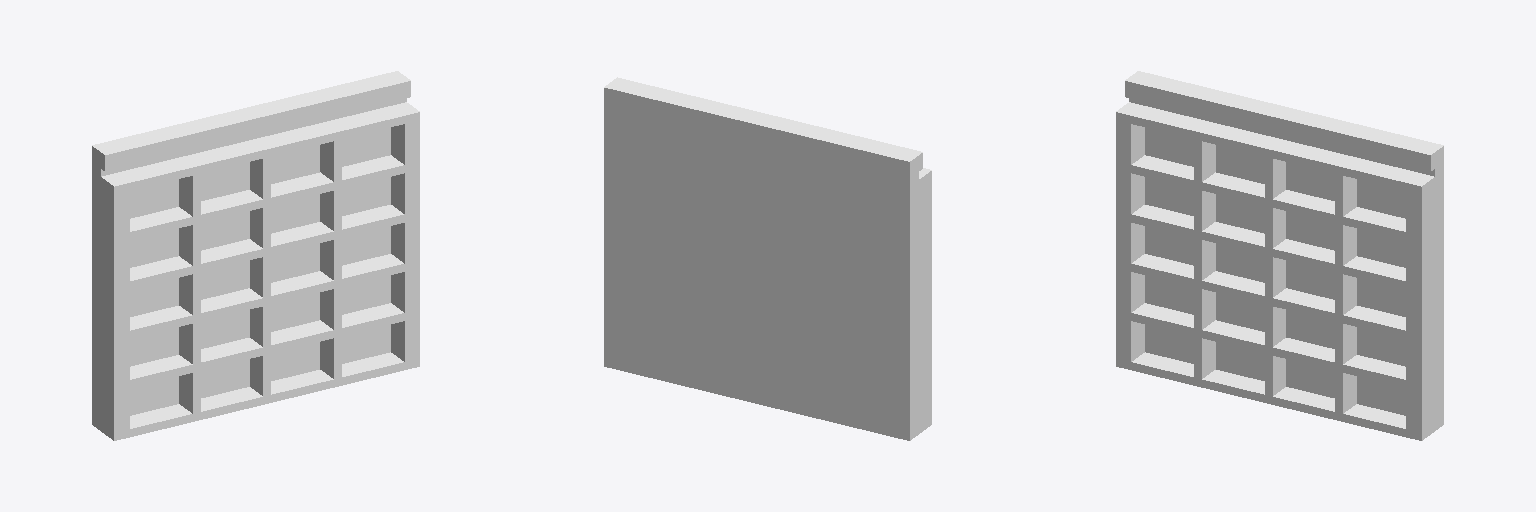
Rendered from shoeracks.obj.
3 renders of one model, left to right at view 1: azimuth 30°, elevation 25°; view 2: azimuth 150°, elevation 25°; view 3: azimuth 330°, elevation 25°, orthographic.
Parts seen in each view (by area): view 1: object 1; view 2: object 1; view 3: object 1.
Part boxes in pixels (left/top/right/bottom): object 1: left=92, top=71, right=419, bottom=440; object 1: left=604, top=77, right=931, bottom=440; object 1: left=1116, top=71, right=1443, bottom=440.
Size of the model in its own units: 3.9 by 3.4 by 0.5.